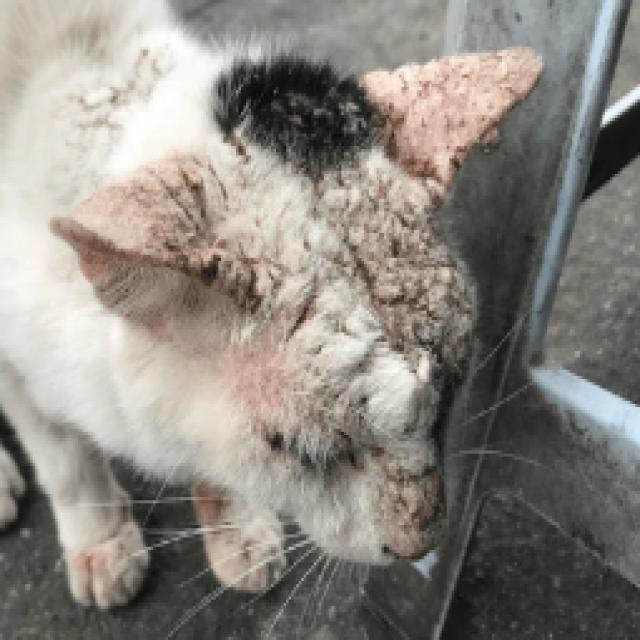Mange: (62, 156, 265, 303), (367, 46, 550, 189), (352, 189, 475, 369), (390, 473, 447, 547), (337, 91, 372, 137), (280, 90, 306, 128)
